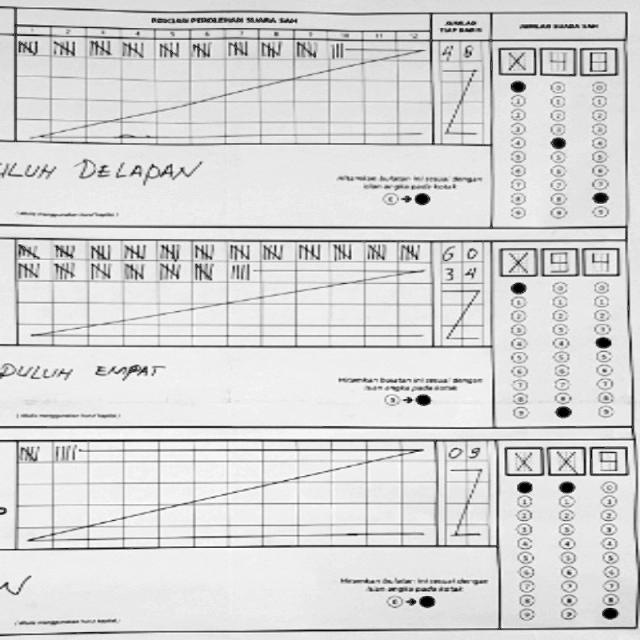Suara: (502, 442, 630, 480), (494, 43, 621, 79), (495, 244, 622, 280)
